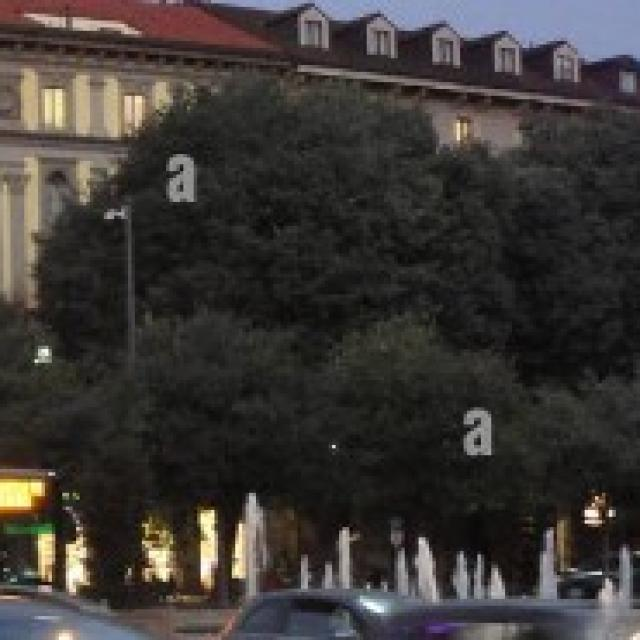bus: (0, 452, 69, 640)
car: (0, 582, 464, 640), (187, 588, 436, 640)
